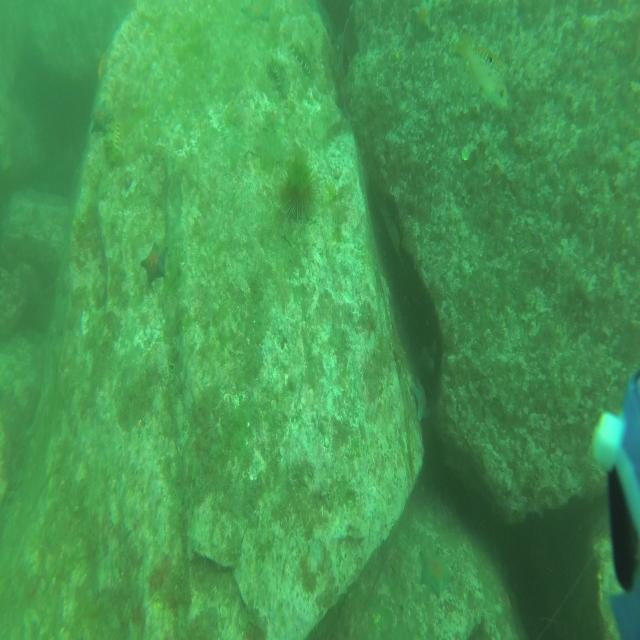echinus: (278, 153, 320, 223)
holothurian: (266, 51, 290, 103), (289, 32, 315, 79), (106, 118, 124, 165)
starfish: (418, 541, 455, 601), (139, 234, 169, 286), (407, 1, 436, 37), (88, 98, 114, 136), (412, 376, 432, 423), (240, 0, 272, 27), (95, 47, 111, 87)
